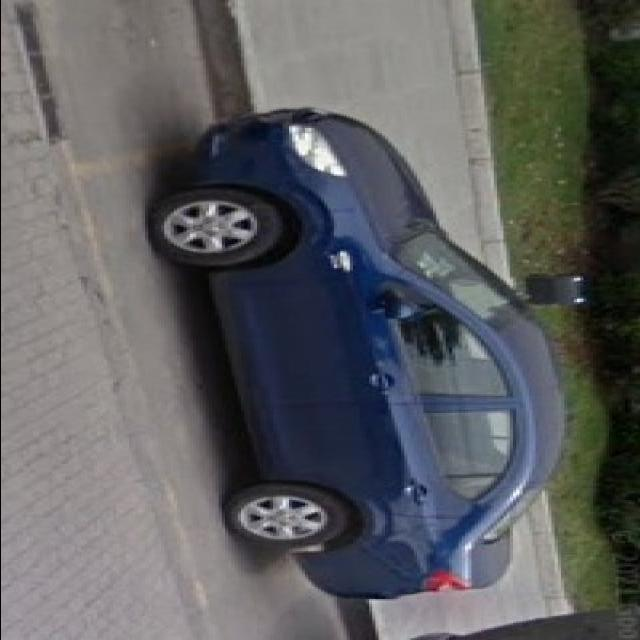car: (150, 110, 576, 598)
